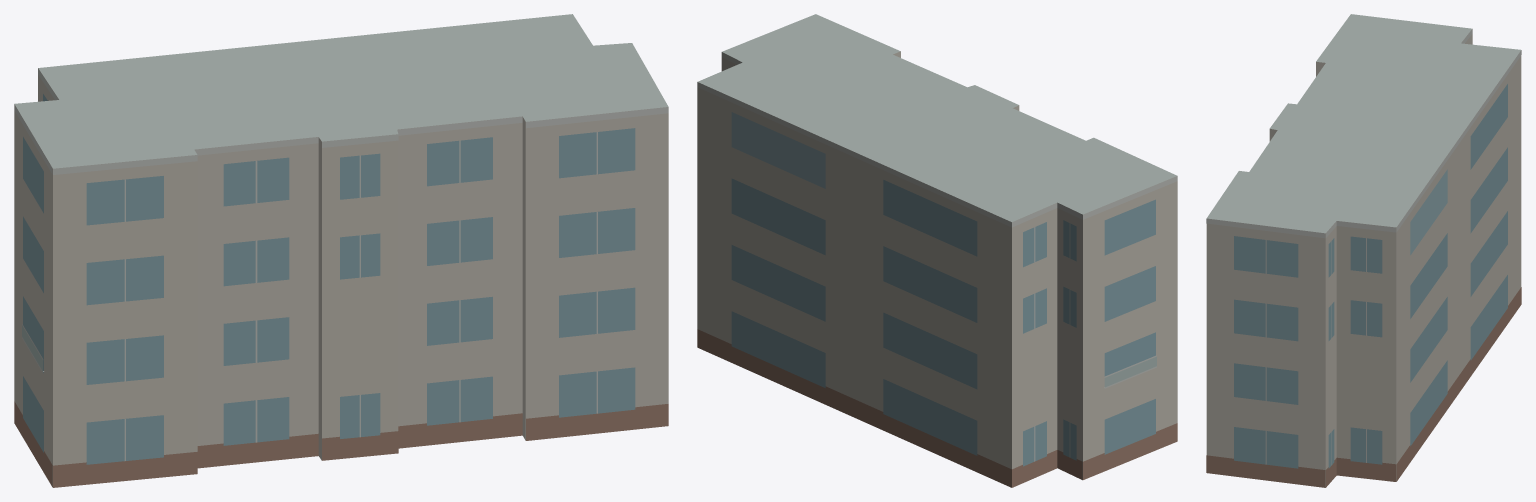
Rendered from survey-upis-32872664.glb.
3 renders of one model, left to right at view 1: azimuth 30°, elevation 25°; view 2: azimuth 150°, elevation 25°; view 3: azimuth 270°, elevation 25°, orthographic. The views are drawn at different scales.
Visible parts, largest first — view 1: survey-upis-32872664.tmp; view 2: survey-upis-32872664.tmp; view 3: survey-upis-32872664.tmp.
Part boxes in pixels (left/top/right/bottom): survey-upis-32872664.tmp: left=14, top=14, right=668, bottom=487; survey-upis-32872664.tmp: left=697, top=14, right=1177, bottom=487; survey-upis-32872664.tmp: left=1206, top=14, right=1521, bottom=487.
Size of the model in its own units: 22.55 by 12.2 by 13.69.
